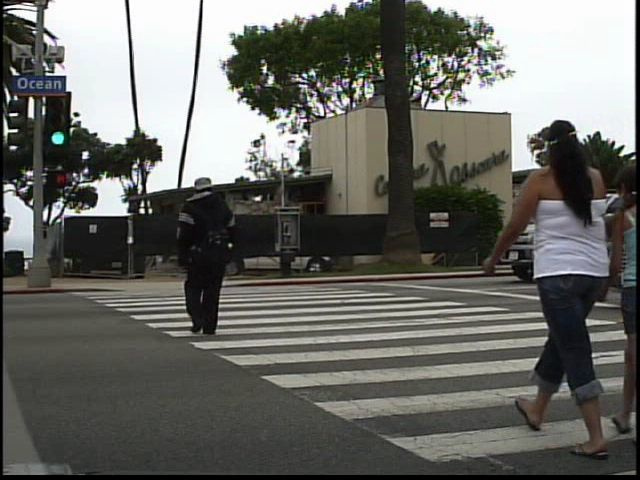person: (488, 105, 615, 471), (165, 168, 255, 345)
